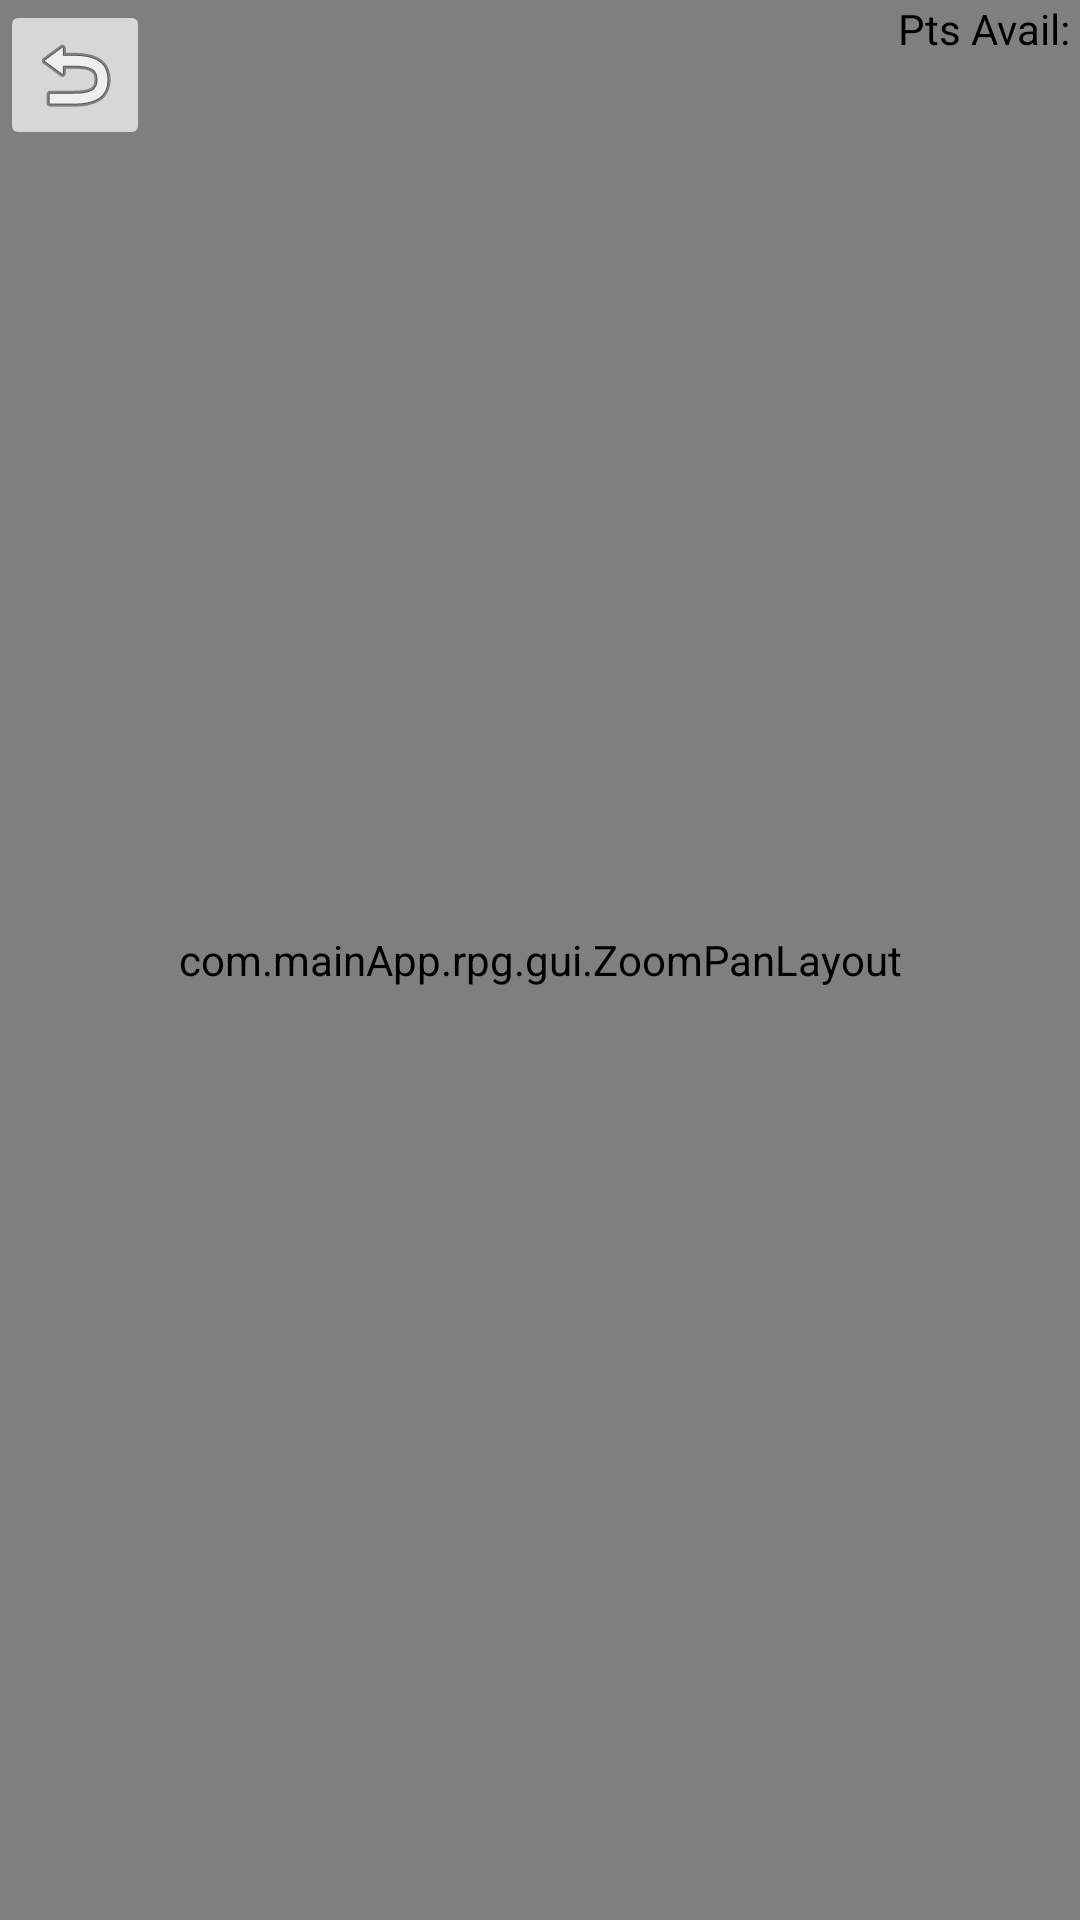

Locate icon controls on the screen. Image size 1080px x 1920px, boxes as [left=x1, top=y1, right=x2, bottom=y2].
Go Back Button: [left=12, top=18, right=138, bottom=132]
